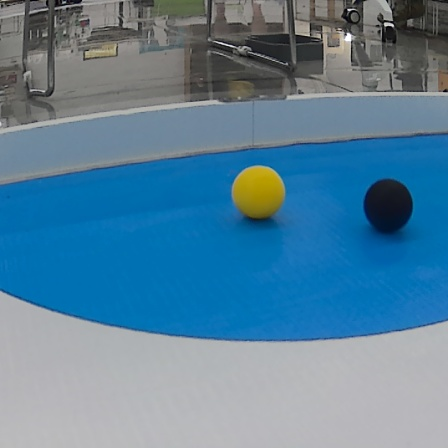black: (364, 176, 417, 239)
blue_base: (1, 139, 447, 344)
yellow: (232, 166, 283, 222)
